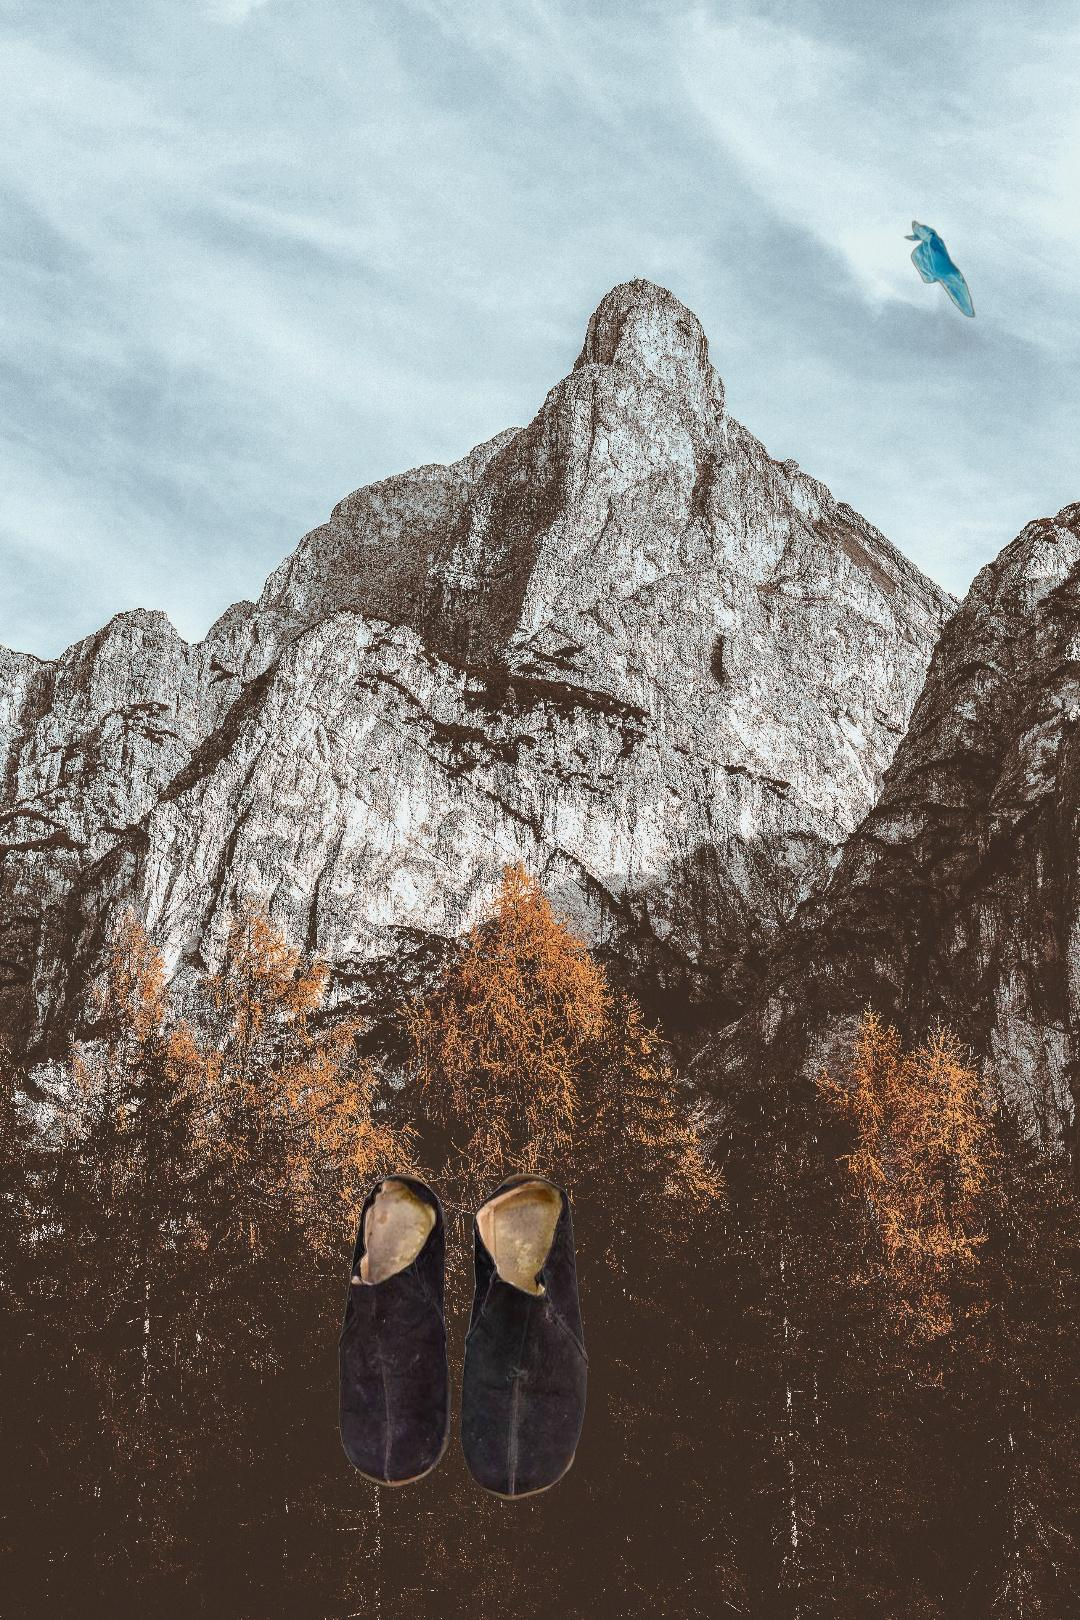plastic-bag: (900, 218, 976, 319)
shoes: (335, 1168, 592, 1505)
